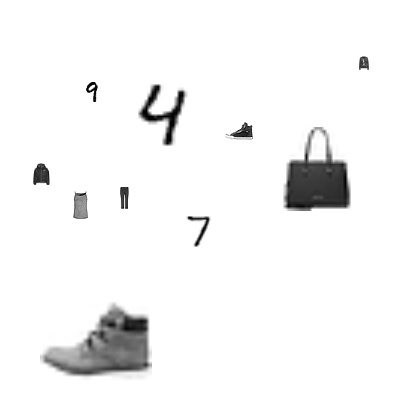4: (121, 70, 205, 154)
7: (179, 206, 221, 248)
9: (78, 76, 106, 104)
Ankle_boot: (40, 283, 152, 395)
Bag: (275, 127, 359, 211)
Coat: (30, 163, 52, 185)
Pullover: (357, 56, 371, 70)
Sneaker: (225, 117, 253, 145)
T-shirt/top: (66, 191, 94, 219)
Trouser: (113, 187, 135, 209)
